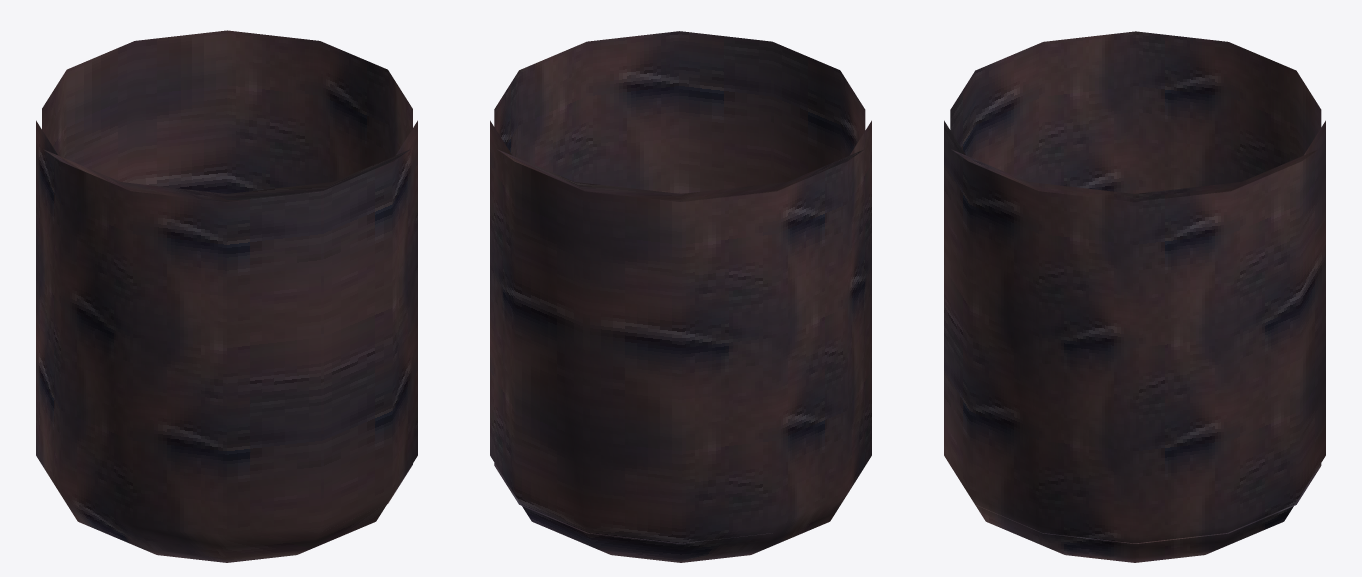
The model's file is pot.glb.
3 views of the same model, side by side, from view 1: azimuth 30°, elevation 25°; view 2: azimuth 150°, elevation 25°; view 3: azimuth 270°, elevation 25° (orthographic).
Parts seen in each view (by area): view 1: pot.ms3d.mo; view 2: pot.ms3d.mo; view 3: pot.ms3d.mo.
Boxes of the visible parts, box(x1,y1,x2,y2) form: pot.ms3d.mo: box(36, 30, 417, 562); pot.ms3d.mo: box(490, 31, 871, 562); pot.ms3d.mo: box(944, 31, 1325, 562).
Size of the model in its own units: 21.34 by 22.1 by 21.34.
Materials: 1 (1 with a texture image).
